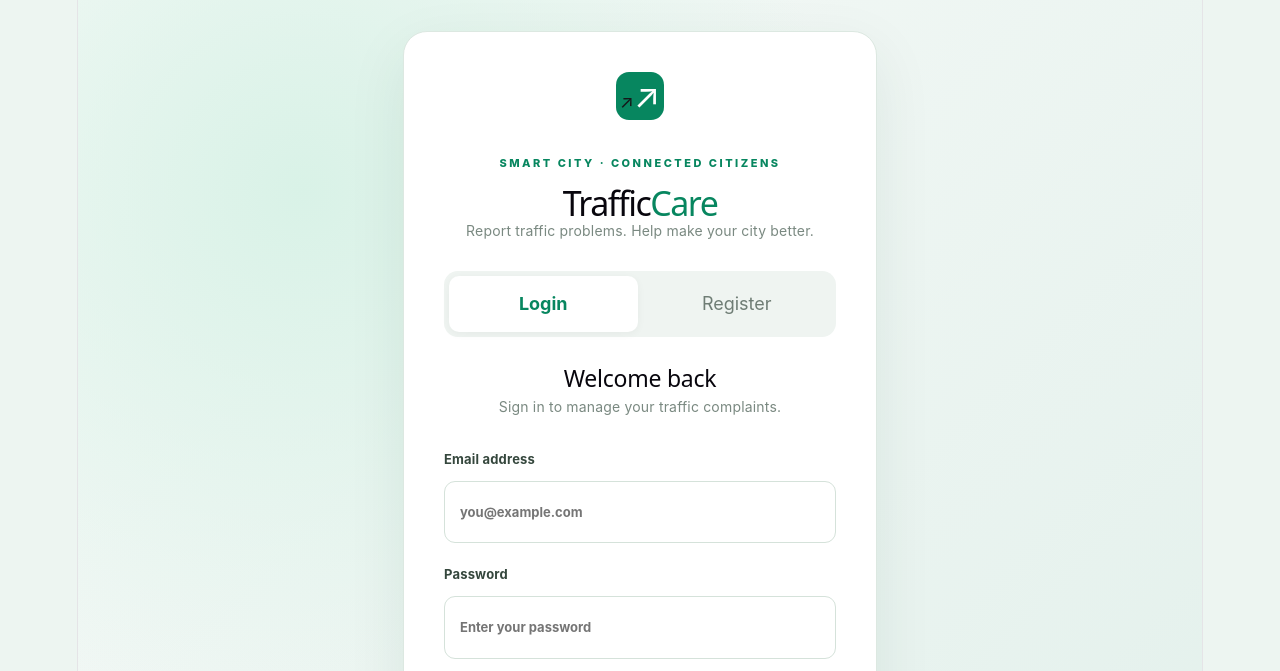
TrafficCare App › displays an error when login fails
In the field with placeholder "you@example.com": [640, 512] box [444,481,836,543], type "wrong@example.com"
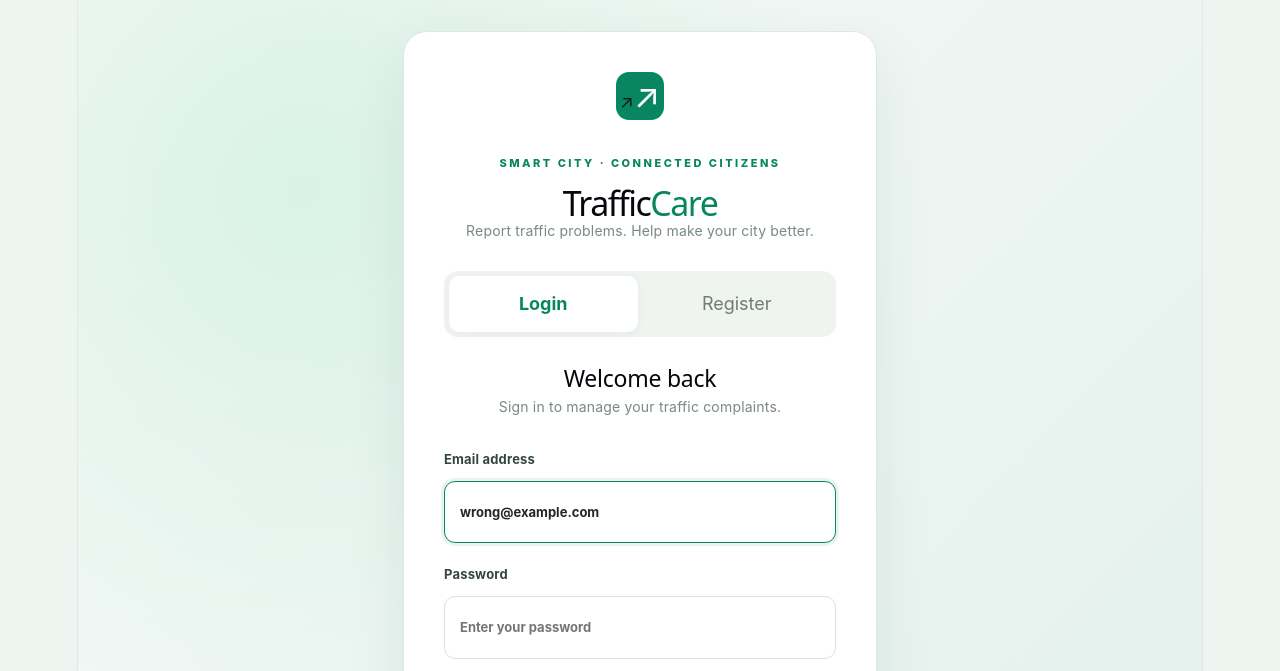
In the password field with placeholder "Enter your password": [640, 628] box [444,596,836,659], type "wrongpass"
(page scrolled)
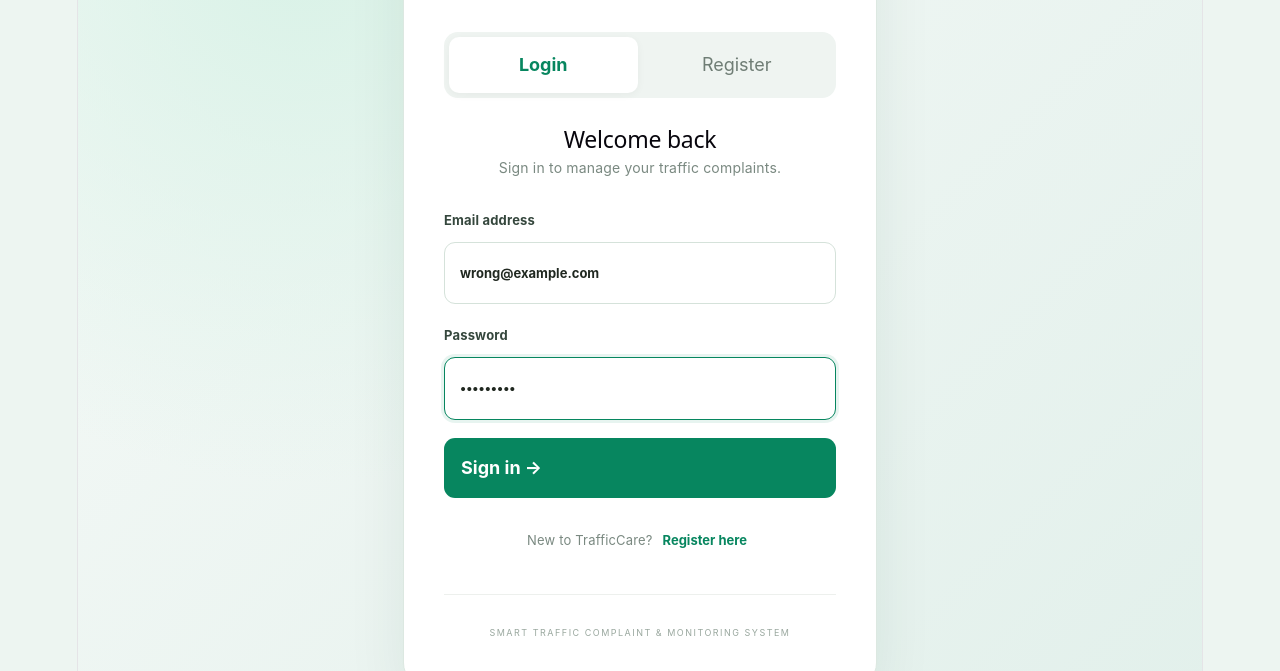
Click the button "Sign in →": [502, 467] box [444,438,836,498]
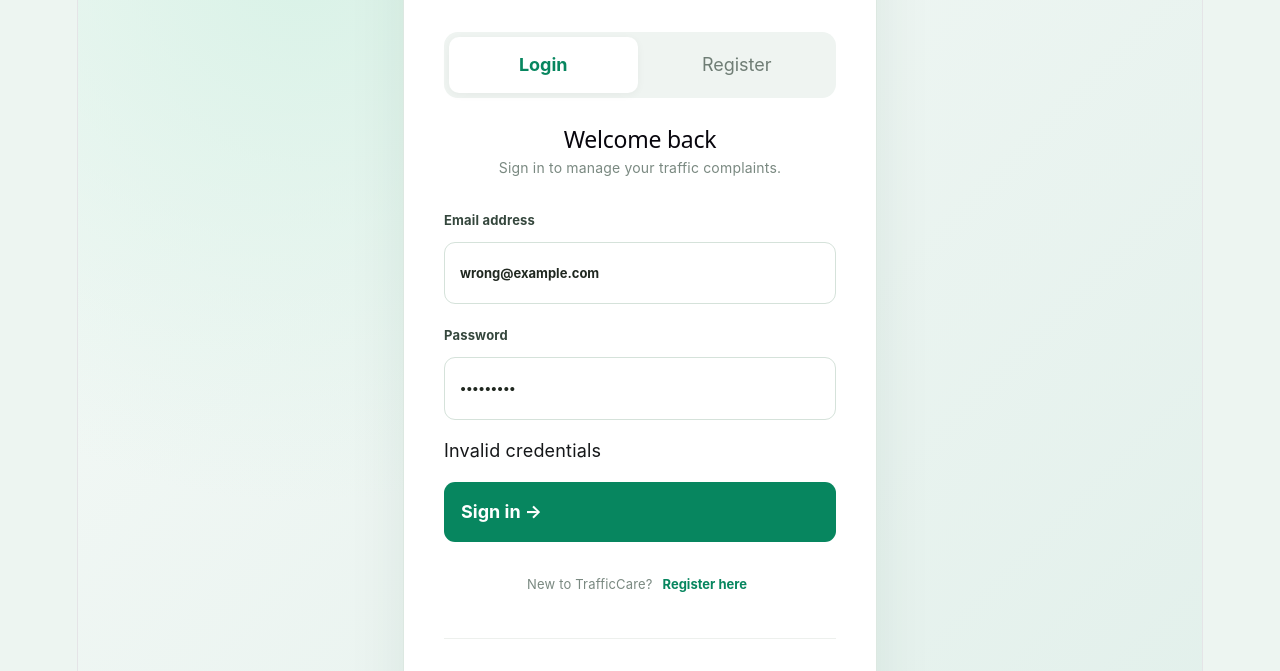
Now the message reads "Invalid credentials", box [444,440,601,461]
